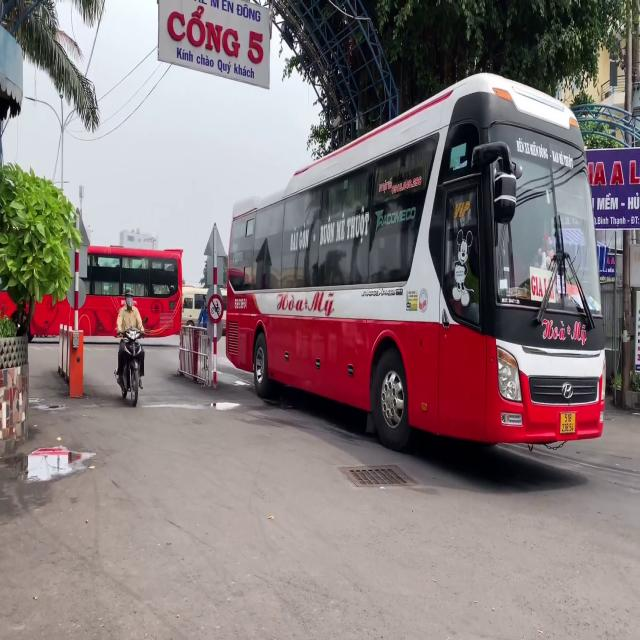bien_vang: (560, 412, 576, 433)
